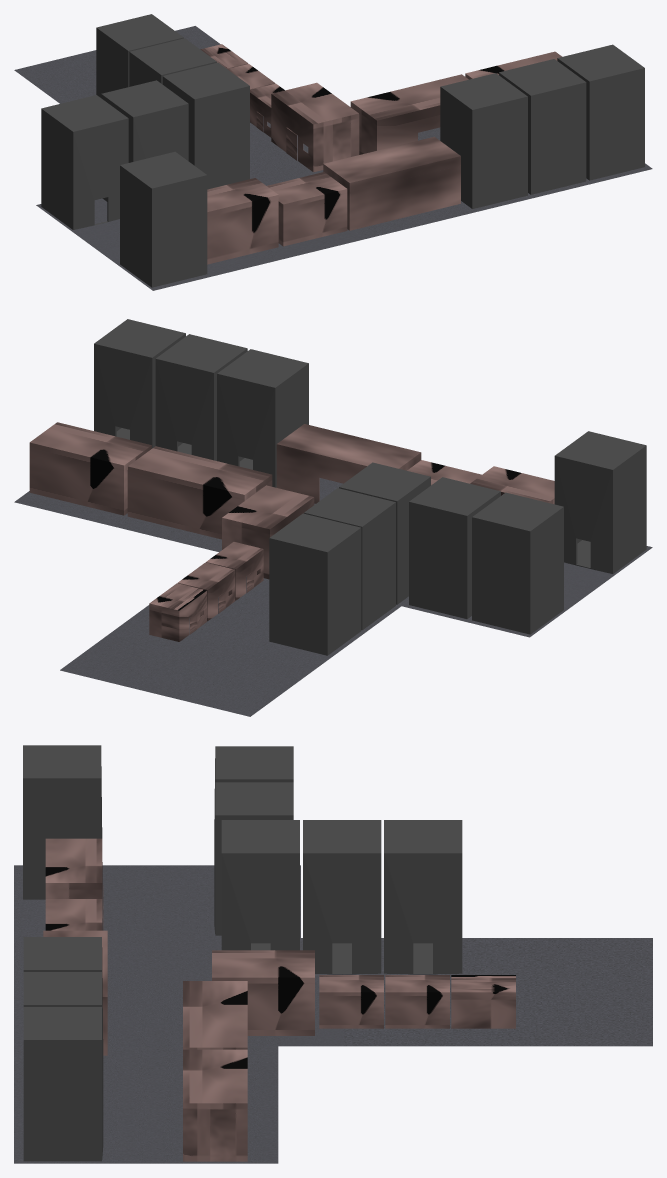
File: town.glb
3 renders of one model, top to bottom at view 1: azimuth 30°, elevation 25°; view 2: azimuth 150°, elevation 25°; view 3: azimuth 270°, elevation 25°, orthographic. The views are drawn at different scales.
Parts seen in each view (by area): view 1: Floor-col, building9-col, building8-col, building 4-col, wideshop-col, building6-col, building5-col, Building3-col, cornermarket-col, houseshop2-col, building7-col, shop2-col (+7 smaller); view 2: Floor-col, Building1-col, building8-col, building9-col, building 4-col, building7-col, shop2-col, shop3-col, building6-col, building5-col, wideshop-col, Building2-col (+7 smaller); view 3: Floor-col, building6-col, Building1-col, Building2-col, Building3-col, building9-col, shop3-col, cornermarket-col, shop2-col, building7-col, houseshop2-col, House1-col (+7 smaller).
Part boxes in pixels (x1=…): Floor-col: x1=14, y1=26, x2=652, y2=290; building9-col: x1=120, y1=151, x2=207, y2=287; building8-col: x1=41, y1=95, x2=128, y2=229; building 4-col: x1=440, y1=73, x2=527, y2=208; wideshop-col: x1=323, y1=136, x2=460, y2=230; building6-col: x1=557, y1=44, x2=644, y2=180; building5-col: x1=499, y1=59, x2=586, y2=194; Building3-col: x1=162, y1=62, x2=249, y2=189; cornermarket-col: x1=271, y1=82, x2=359, y2=172; houseshop2-col: x1=207, y1=178, x2=278, y2=264; building7-col: x1=101, y1=80, x2=188, y2=162; shop2-col: x1=350, y1=74, x2=468, y2=154; Floor-col: x1=14, y1=478, x2=652, y2=716; Building1-col: x1=269, y1=513, x2=361, y2=655; building8-col: x1=472, y1=492, x2=563, y2=634; building9-col: x1=554, y1=431, x2=646, y2=573; building 4-col: x1=217, y1=349, x2=308, y2=487; building7-col: x1=409, y1=477, x2=500, y2=618; shop2-col: x1=127, y1=446, x2=272, y2=539; shop3-col: x1=29, y1=422, x2=151, y2=515; building6-col: x1=94, y1=319, x2=185, y2=448; building5-col: x1=155, y1=334, x2=247, y2=460; wideshop-col: x1=276, y1=424, x2=421, y2=503; Building2-col: x1=304, y1=488, x2=395, y2=630; Floor-col: x1=14, y1=865, x2=652, y2=1163; building6-col: x1=23, y1=1007, x2=103, y2=1161; Building1-col: x1=384, y1=820, x2=462, y2=974; Building2-col: x1=303, y1=820, x2=381, y2=974; Building3-col: x1=221, y1=820, x2=299, y2=950; building9-col: x1=23, y1=745, x2=102, y2=899; shop3-col: x1=183, y1=1049, x2=247, y2=1161; cornermarket-col: x1=212, y1=950, x2=314, y2=1035; shop2-col: x1=183, y1=981, x2=247, y2=1049; building7-col: x1=214, y1=782, x2=293, y2=935; houseshop2-col: x1=45, y1=838, x2=102, y2=917; House1-col: x1=451, y1=975, x2=515, y2=1028.
Bounding box in the file's own units: 944 × 183 × 854.
Materials: 4 (3 with a texture image).
